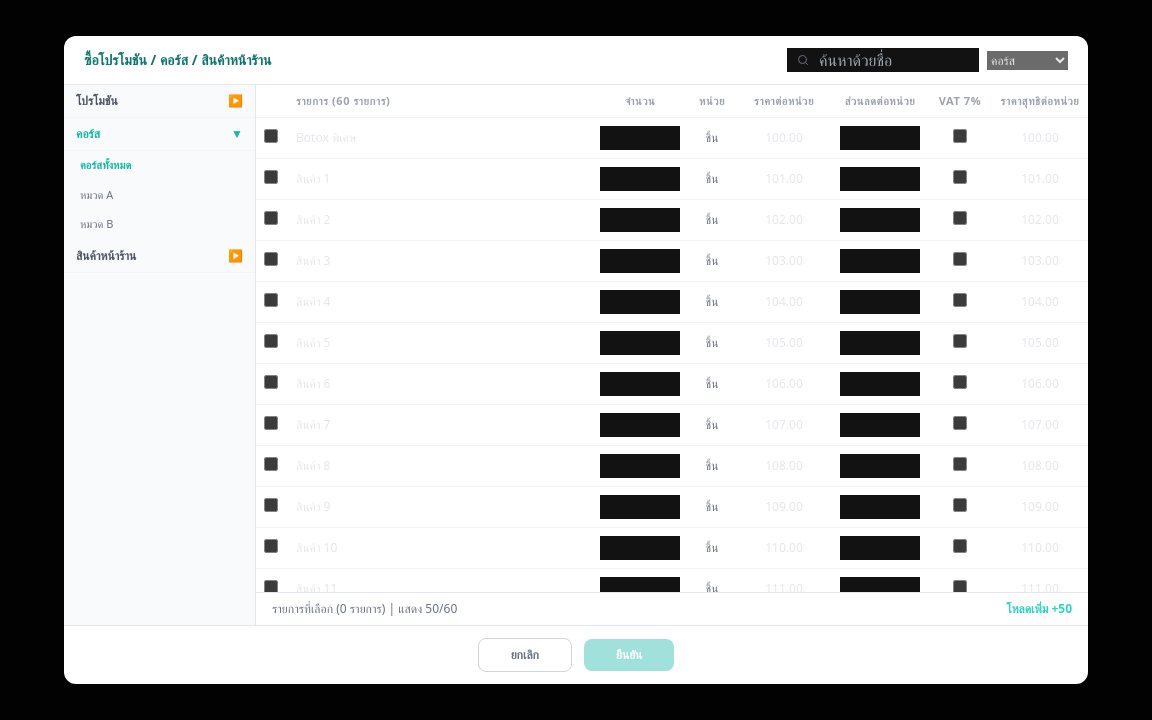
K2 — standalone modal behavior (RTL) › K2.3 50-cap + โหลดเพิ่ม +50 works from modal-internal buyShowLimit
The width and height of the screenshot is (1152, 720).
Check: the text "รายการที่เลือก (0 รายการ) | แสดง 50/60" is shown, box [272,601,457,617]
Click the button "โหลดเพิ่ม +50": (1039,609) [1006,601,1072,617]
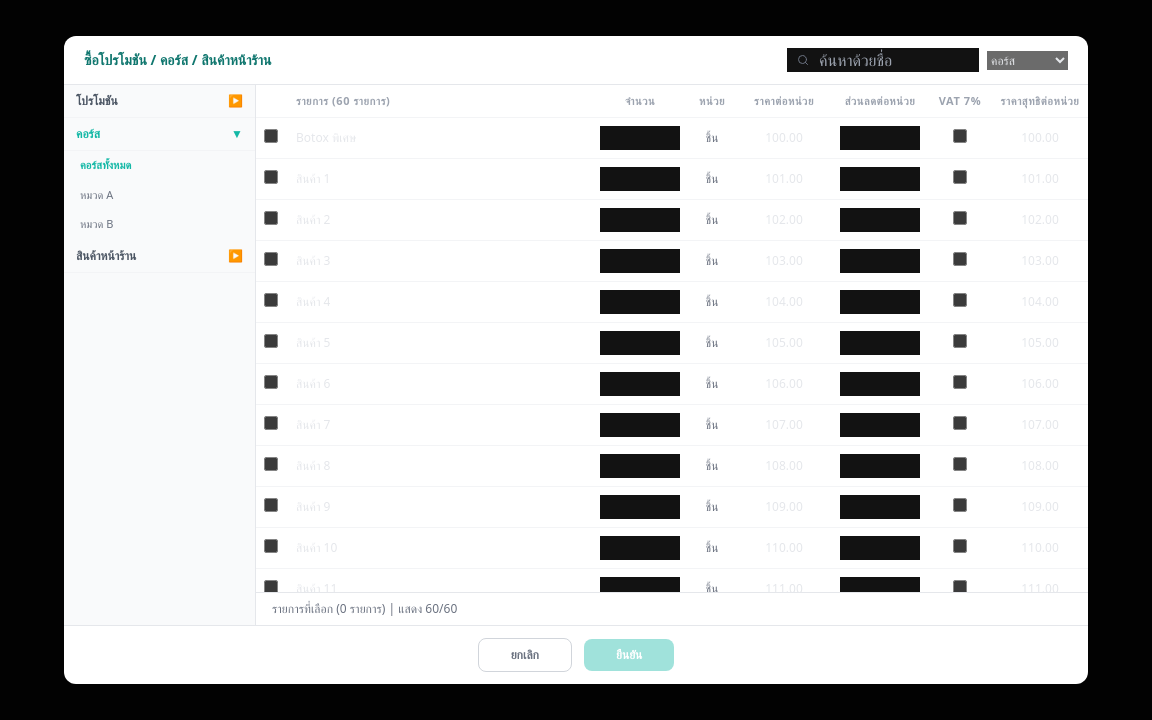
Check: the text "รายการที่เลือก (0 รายการ) | แสดง 60/60" is shown, box [272,601,457,617]
Check: the button "โหลดเพิ่ม +50" is gone
